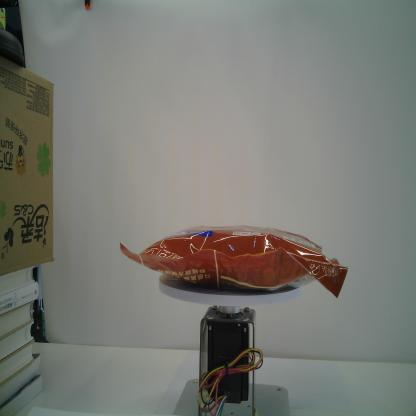Dried Food: (119, 225, 348, 299)
